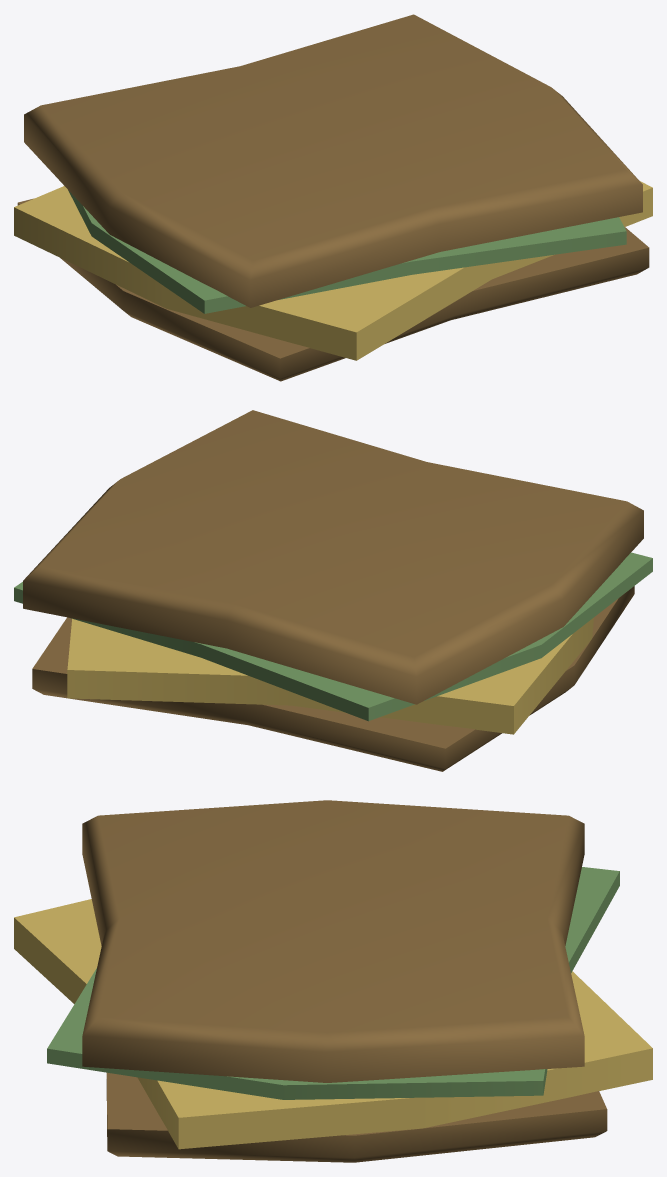
File: Sandwhich.fbx
3 views of the same model, one above another, from view 1: azimuth 30°, elevation 25°; view 2: azimuth 150°, elevation 25°; view 3: azimuth 270°, elevation 25° (orthographic). The views are drawn at different scales.
Parts seen in each view (by area): view 1: Sandwhich; view 2: Sandwhich; view 3: Sandwhich.
Boxes of the visible parts, x1=… form: Sandwhich: x1=14, y1=14, x2=652, y2=381; Sandwhich: x1=14, y1=410, x2=652, y2=771; Sandwhich: x1=14, y1=800, x2=652, y2=1162.
Bounding box in the file's own units: 12.38 × 2.75 × 12.38.
Materials: 1 (1 with a texture image).
